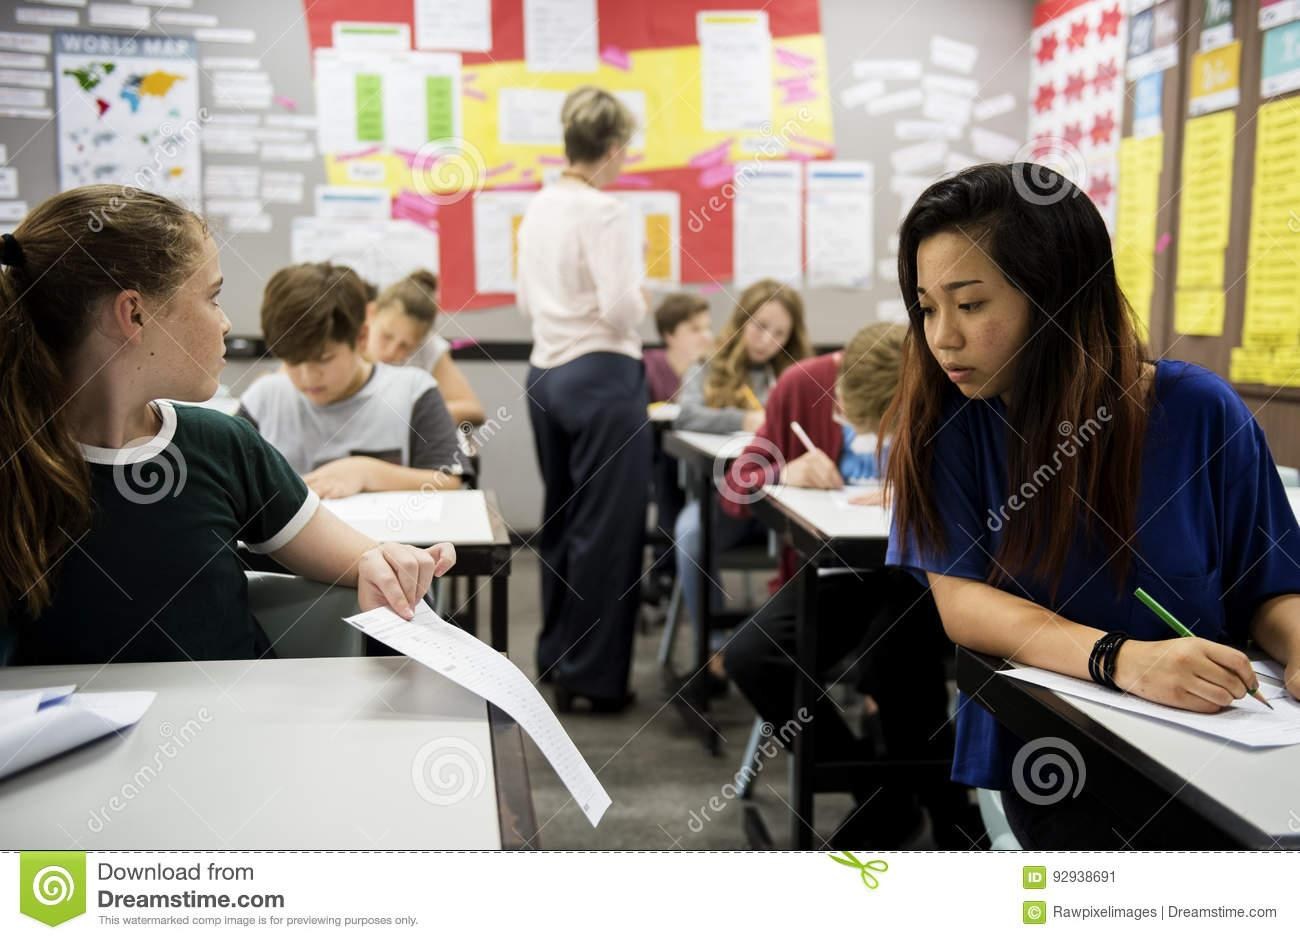student: (242, 254, 531, 527)
studentcopying: (10, 142, 650, 844), (816, 145, 1300, 714)
